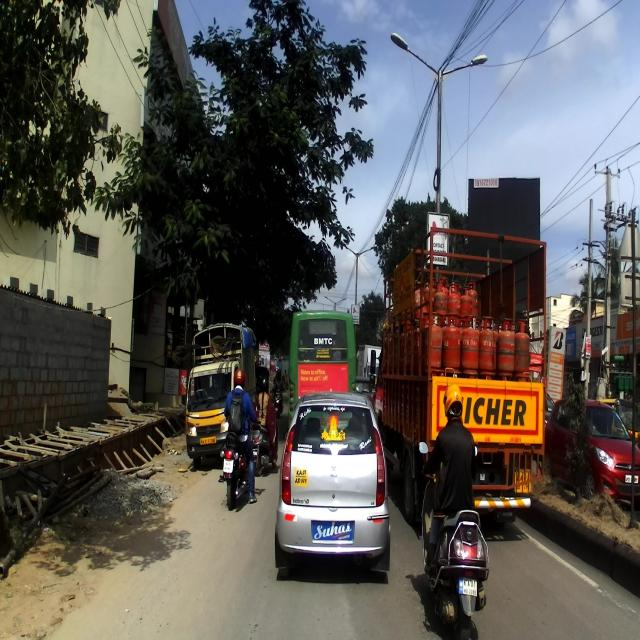Car_Hyundai: (544, 397, 639, 515)
Car_TATA: (273, 392, 392, 582)
bus: (287, 311, 358, 417)
motorcycle_RoyalEnfield: (220, 403, 260, 510)
scooter: (417, 439, 491, 639)
truck: (370, 226, 549, 534), (185, 322, 255, 468)
